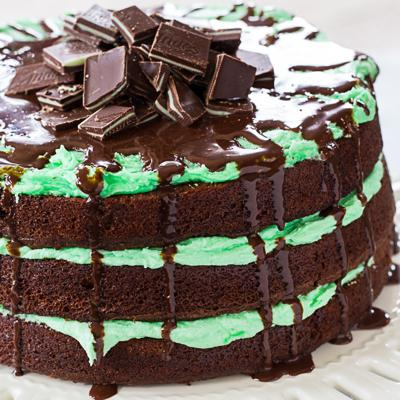cake: (1, 1, 397, 386)
